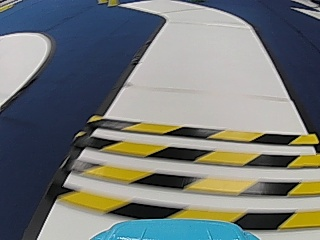bump: (102, 127, 298, 219)
